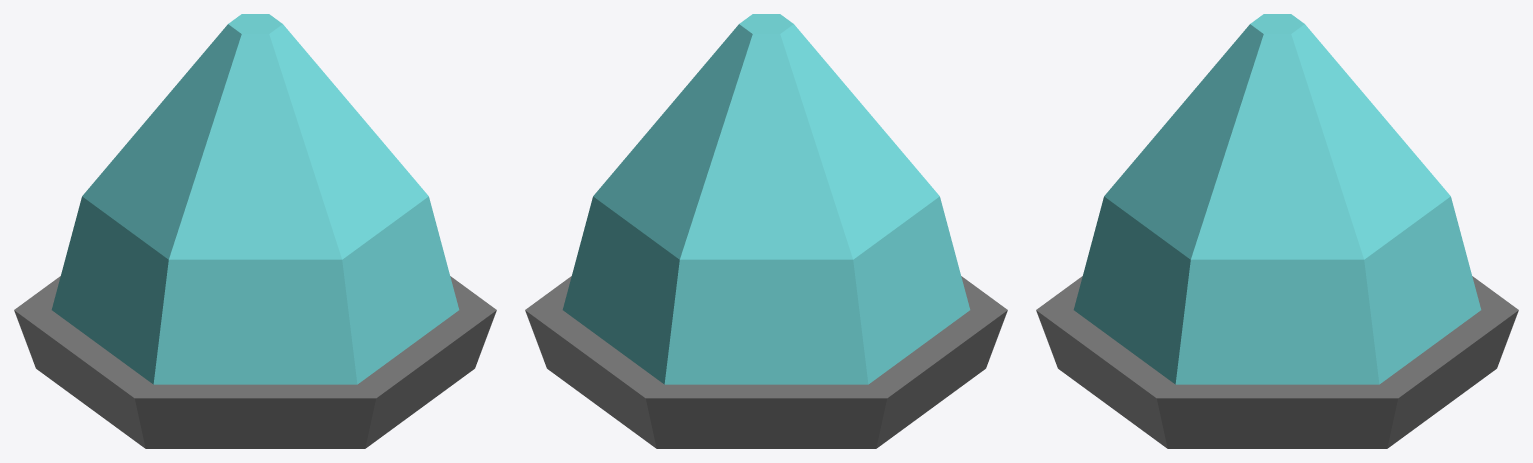
File: slowBaseSecondUpgrade.fbx
The picture shows the model from 3 angles, left to right: view 1: azimuth 30°, elevation 25°; view 2: azimuth 150°, elevation 25°; view 3: azimuth 270°, elevation 25°; orthographic projection.
Parts seen in each view (by area): view 1: mergedBlocks; view 2: mergedBlocks; view 3: mergedBlocks.
Part boxes in pixels (x1,y1,x2,y2): mergedBlocks: (14, 14, 496, 448); mergedBlocks: (525, 14, 1007, 448); mergedBlocks: (1036, 14, 1518, 448).
Size of the model in its own units: 6.6 by 6 by 7.62.
